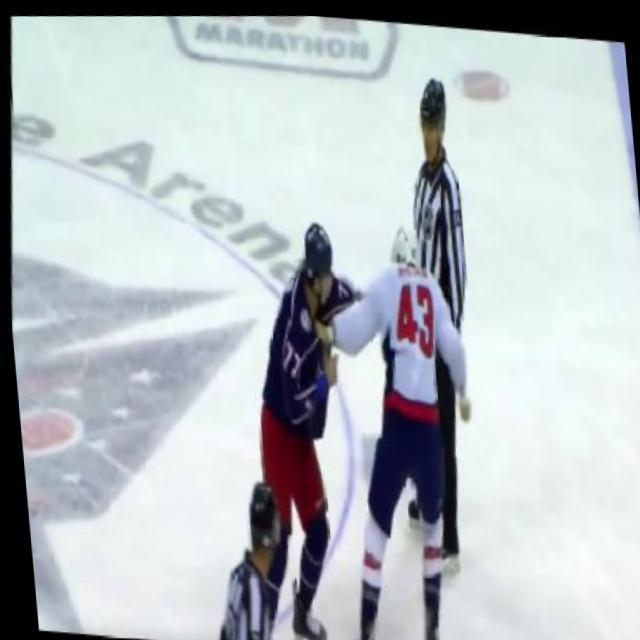fight: (220, 192, 504, 640)
